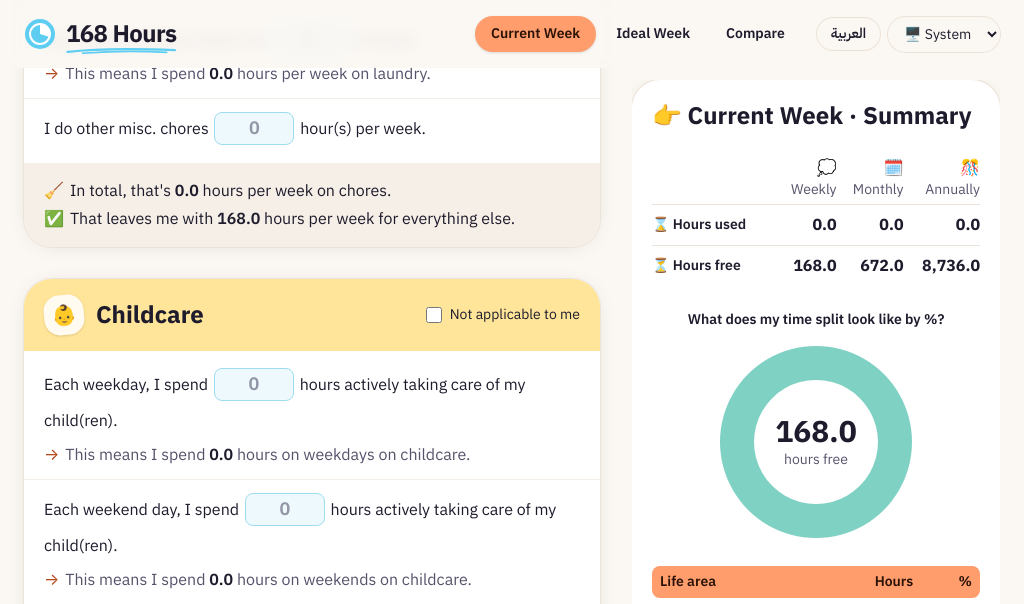
week form › lets childcare be skipped without losing what was entered
(page scrolled)
In the field labelled "Each weekday": (254,384) 214,368 -> 294,400, type "2"
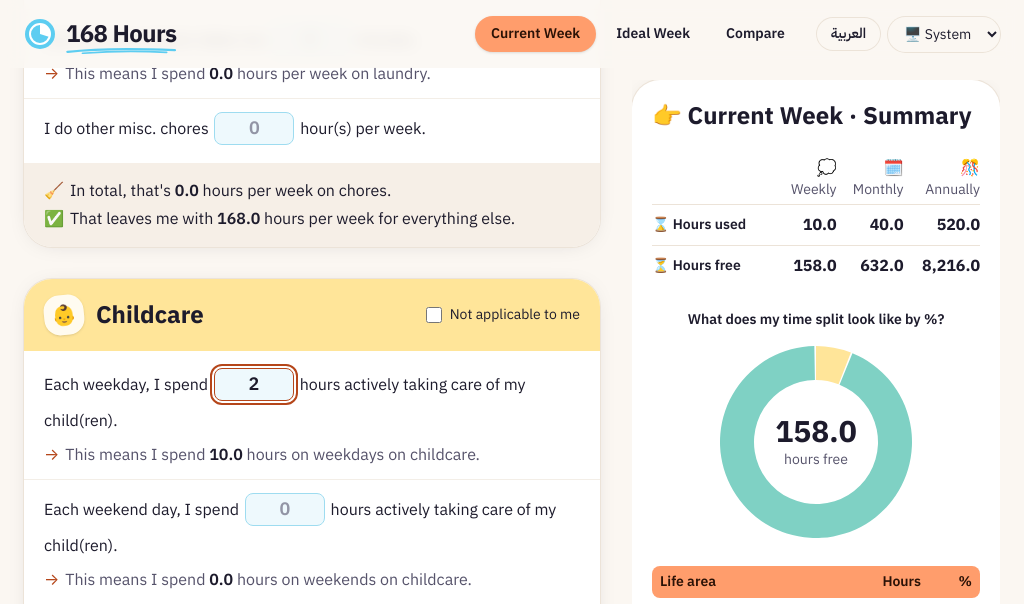
Click the checkbox labelled "Not applicable to me": (434,315) 426,307 -> 442,323
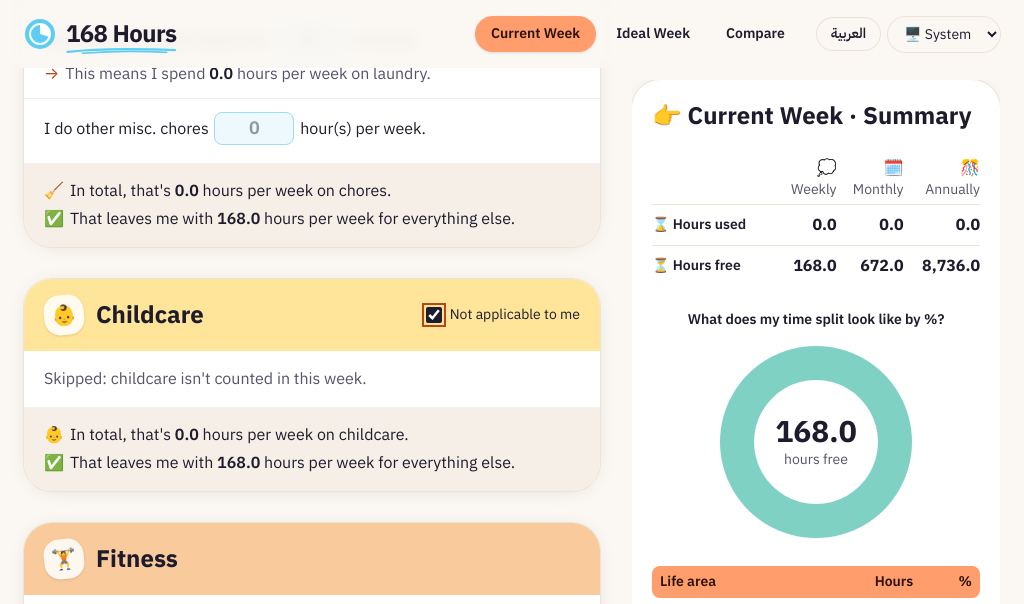
Expected: the text "👶In total, that's 0.0 hours per week on childcare." is shown, 44,423 -> 409,447
Click the checkbox labelled "Not applicable to me": (434,315) 426,307 -> 442,323
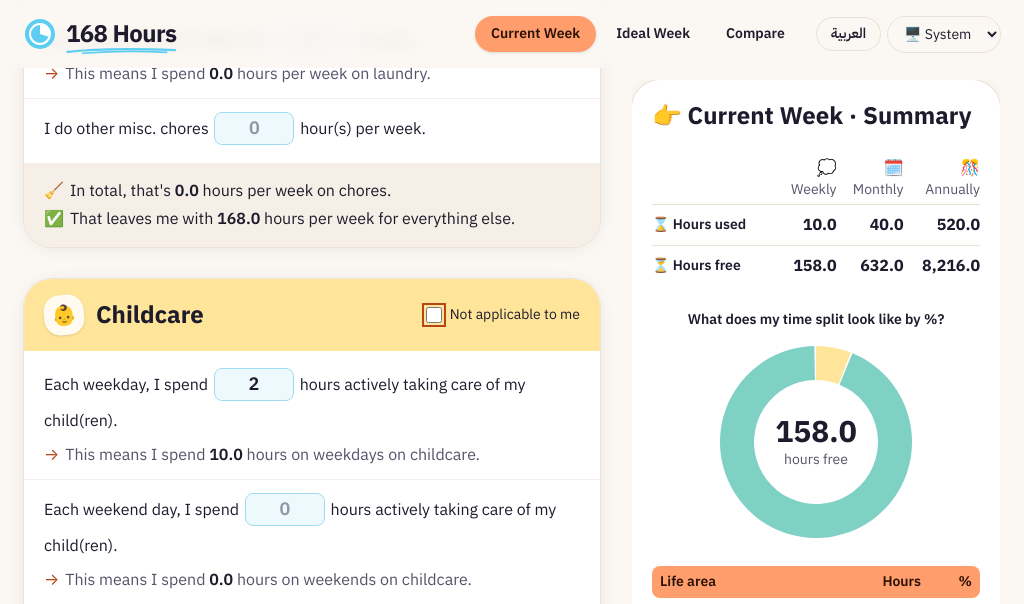
Expected: the field labelled "Each weekday" holds "2", 214,368 -> 294,400
